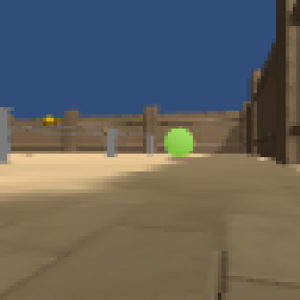goodGoal: (162, 124, 195, 159)
goodGoalMulti: (40, 114, 58, 130)
wall: (1, 106, 13, 164), (105, 127, 119, 158), (146, 133, 156, 156)
